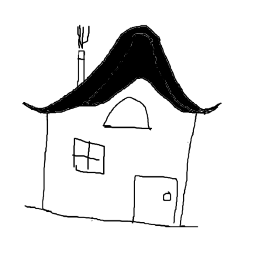closed_window: (67, 133, 109, 179)
door: (127, 164, 183, 228)
open_window: (103, 96, 156, 133)
shaded_roof: (13, 24, 221, 116)
smoking_chimney: (62, 22, 98, 86)
wall: (38, 96, 200, 227)
